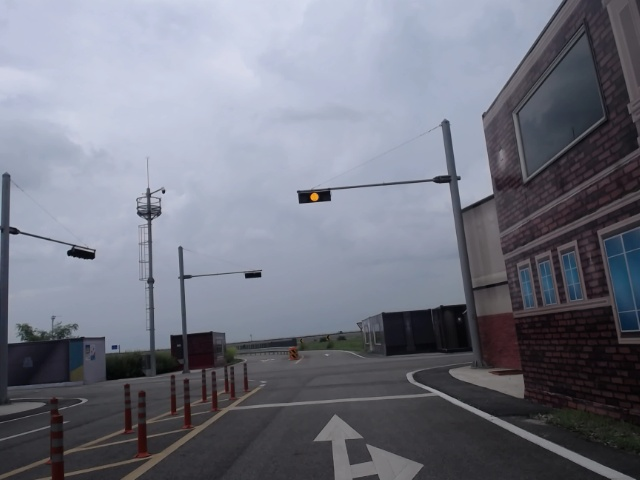orange_3: (298, 190, 331, 204)
